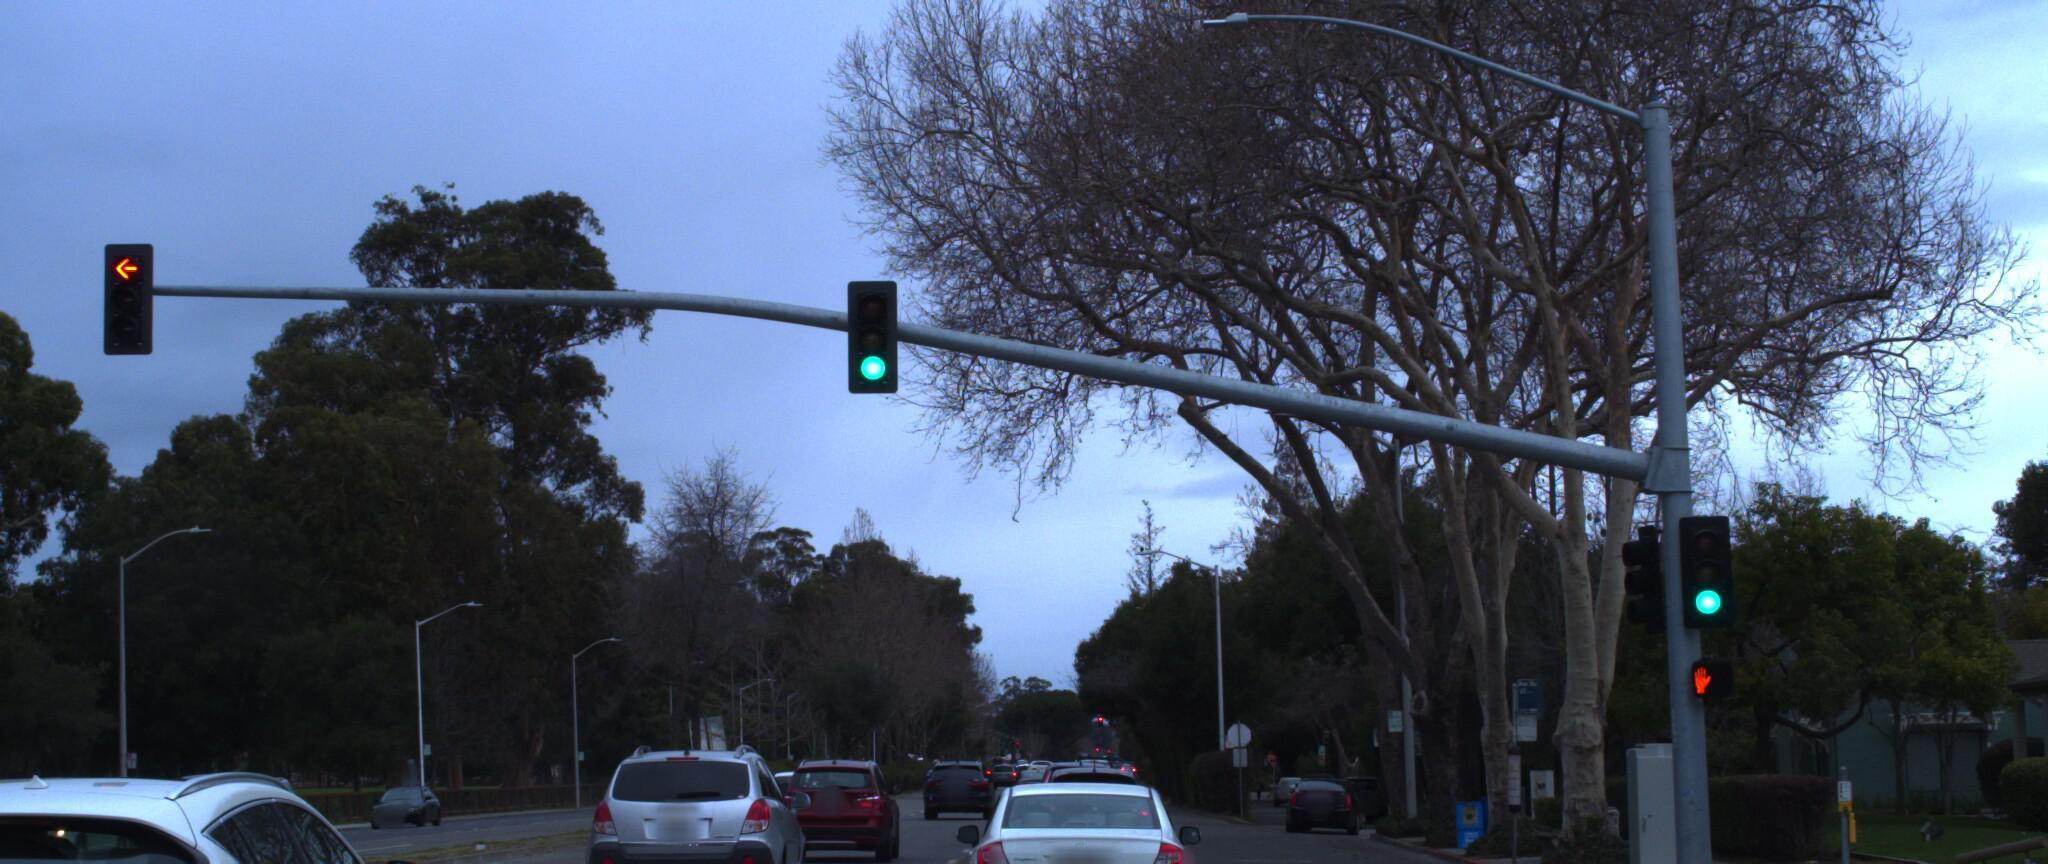car: (0, 760, 482, 864), (579, 720, 812, 864), (956, 767, 1196, 864), (771, 743, 903, 857), (0, 767, 137, 864), (1277, 756, 1357, 820)
